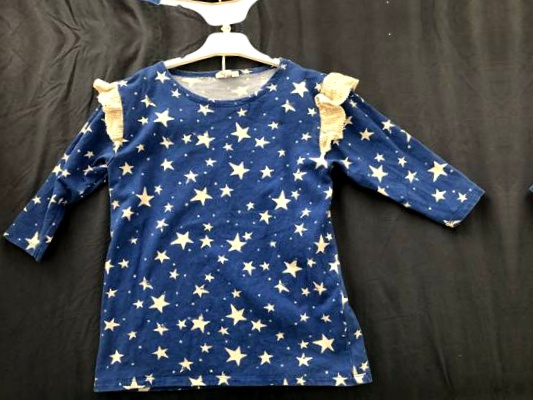Dress: (8, 21, 493, 400), (0, 0, 469, 34), (524, 0, 533, 376), (499, 0, 533, 1)
